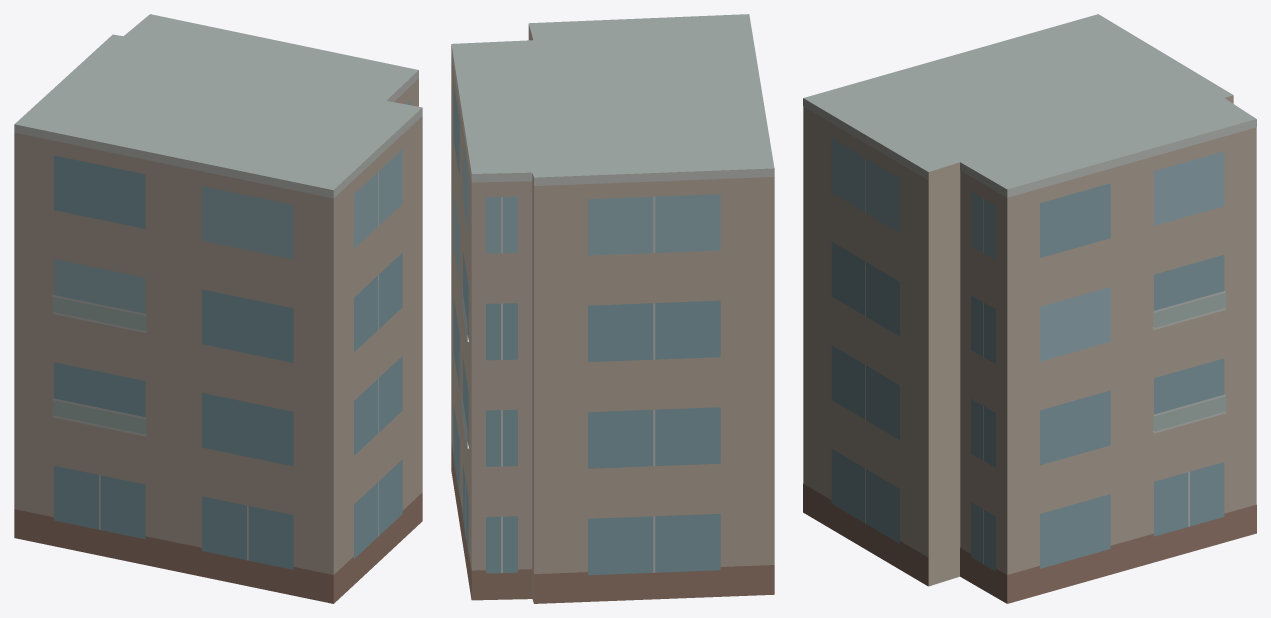
The model's file is survey-upis-32787841.glb.
3 renders of one model, left to right at view 1: azimuth 30°, elevation 25°; view 2: azimuth 150°, elevation 25°; view 3: azimuth 270°, elevation 25°, orthographic. The views are drawn at different scales.
Visible parts, largest first — view 1: survey-upis-32787841.tmp; view 2: survey-upis-32787841.tmp; view 3: survey-upis-32787841.tmp.
Part boxes in pixels (box(x1,y1,x2,y2)): survey-upis-32787841.tmp: box(14, 14, 422, 603); survey-upis-32787841.tmp: box(451, 14, 774, 603); survey-upis-32787841.tmp: box(803, 14, 1256, 603).
Bounding box in the file's own units: 11.09 × 12.2 × 12.11.
